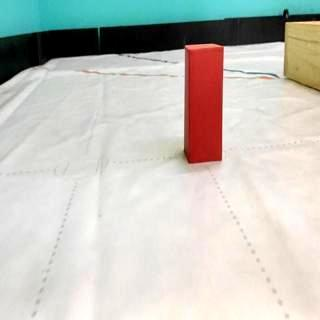redbox: (182, 41, 225, 163)
